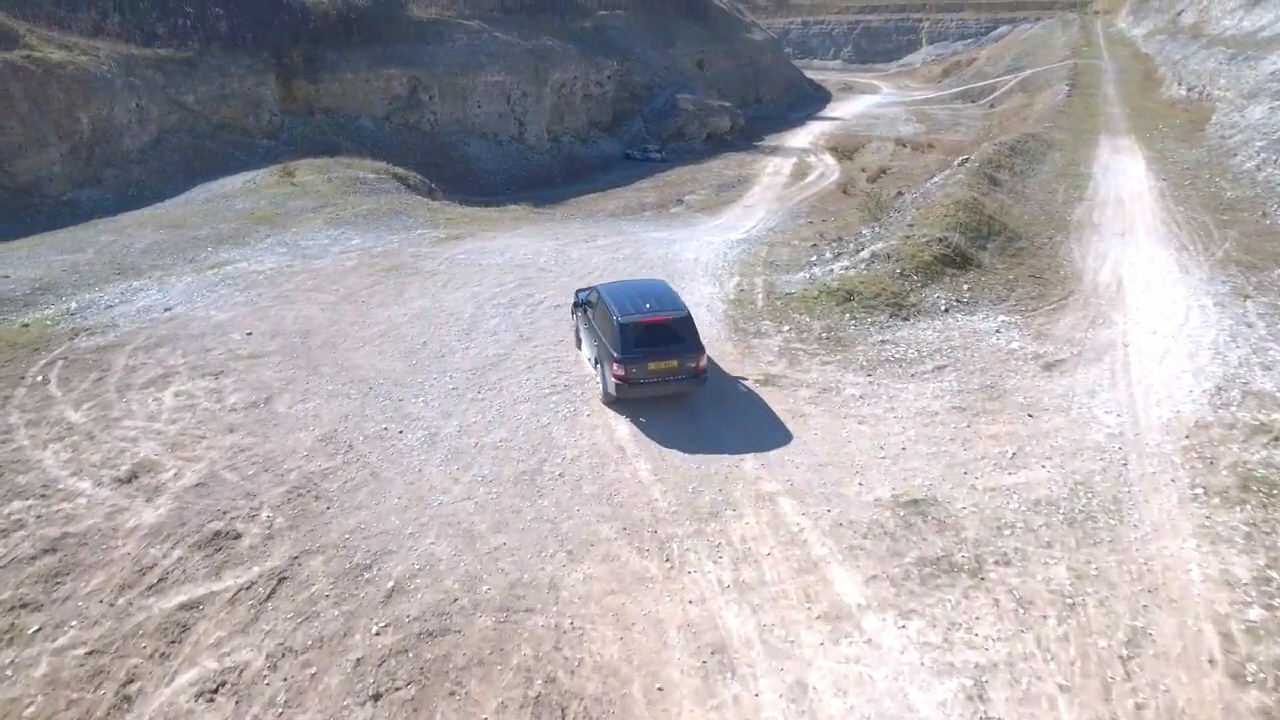araba: (565, 277, 715, 408)
